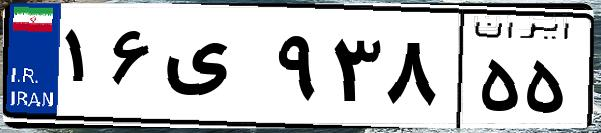1: (57, 26, 110, 100)
3: (330, 28, 385, 110)
5: (475, 38, 525, 113), (525, 38, 570, 115)
6: (110, 28, 158, 98)
8: (385, 28, 445, 110)
9: (270, 28, 330, 110)
ی: (158, 20, 270, 120)
